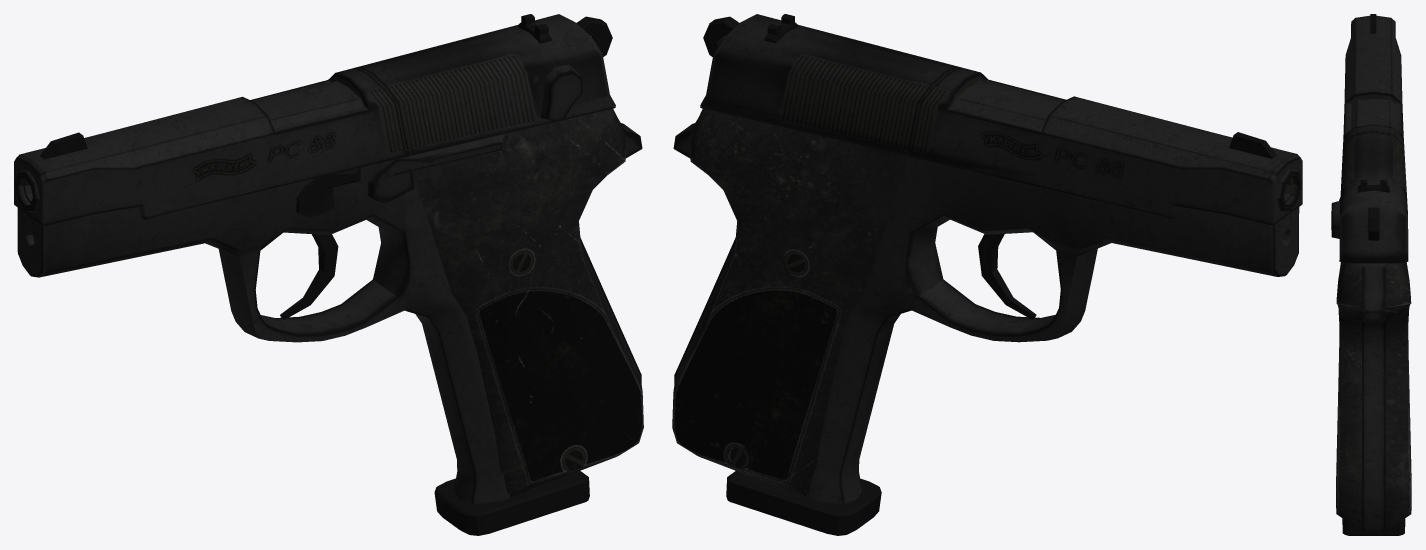
Rendered from walther_p88_gun.glb.
3 renders of one model, left to right at view 1: azimuth 30°, elevation 25°; view 2: azimuth 150°, elevation 25°; view 3: azimuth 270°, elevation 25°, orthographic. The views are drawn at different scales.
Parts seen in each view (by area): view 1: Object_2; view 2: Object_2; view 3: Object_2.
Part boxes in pixels (x1,y1,x2,y2): Object_2: (14, 14, 643, 535); Object_2: (672, 14, 1302, 535); Object_2: (1331, 14, 1411, 535).
Size of the model in its own units: 19.23 by 14.6 by 3.04.
1 material, 1 textured.
